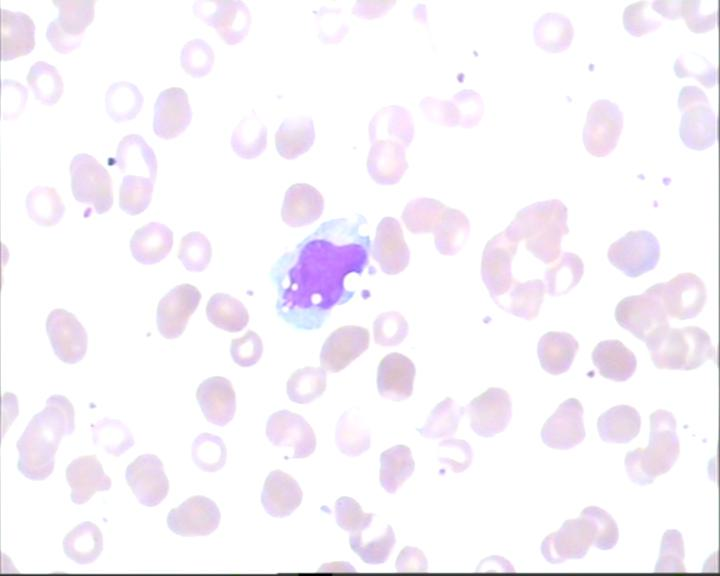mono: (270, 208, 379, 328)
